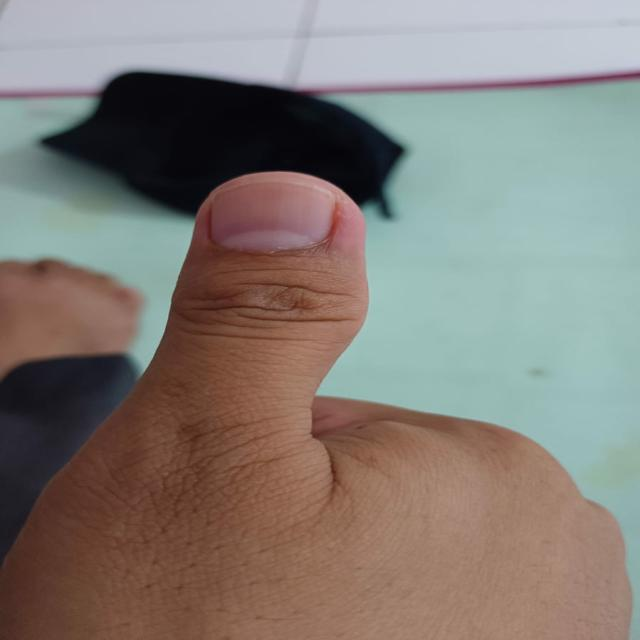sehat: (209, 184, 335, 251)
